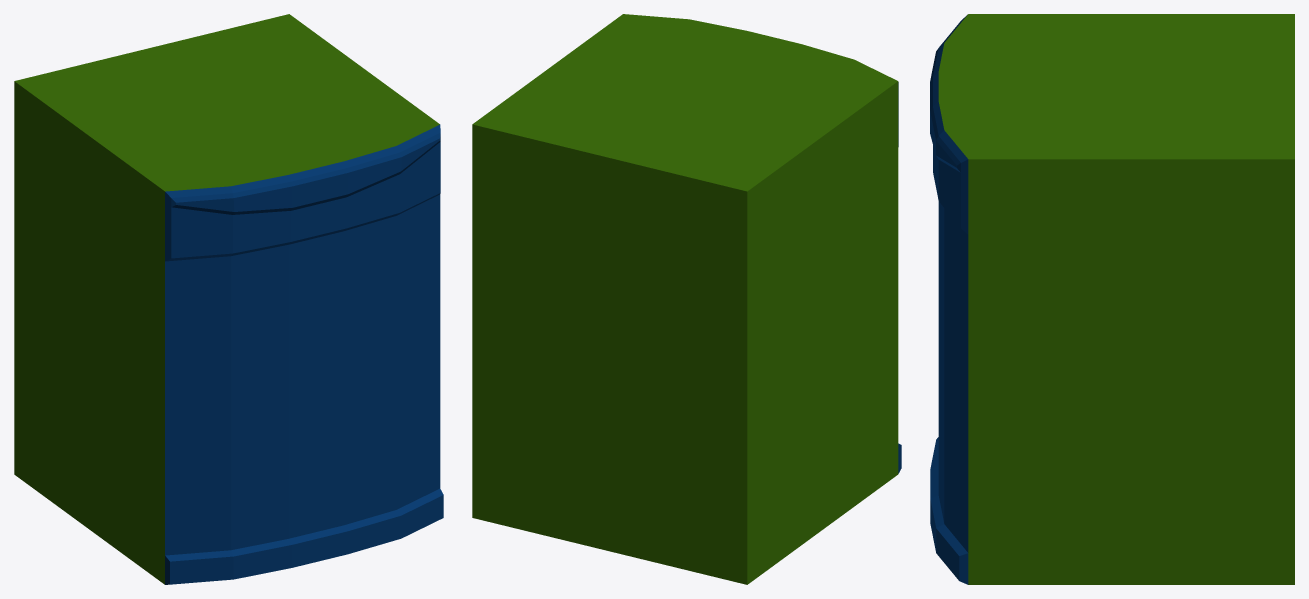
File: Kitchen_Appliances_Dishwasher_Collision.FBX
The picture shows the model from 3 angles, left to right: view 1: azimuth 30°, elevation 25°; view 2: azimuth 150°, elevation 25°; view 3: azimuth 270°, elevation 25°; orthographic projection. The views are drawn at different scales.
Visible parts, largest first — view 1: Dishwasher_Door.002; view 2: Dishwasher_Door.002; view 3: Dishwasher_Door.002.
Part boxes in pixels (<box>): Dishwasher_Door.002: <box>14,14,443,584</box>; Dishwasher_Door.002: <box>472,14,901,584</box>; Dishwasher_Door.002: <box>930,14,1294,584</box>.
Bounding box in the file's own units: 23.62 × 32.28 × 25.07.
